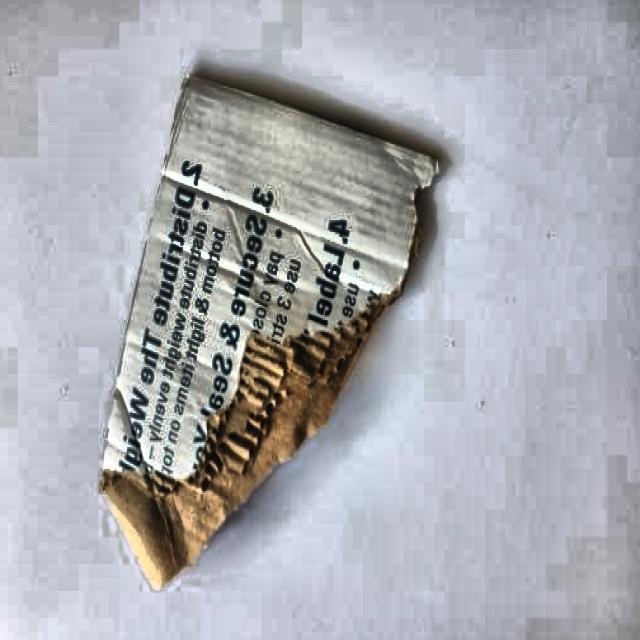cardboard: (98, 75, 442, 592)
